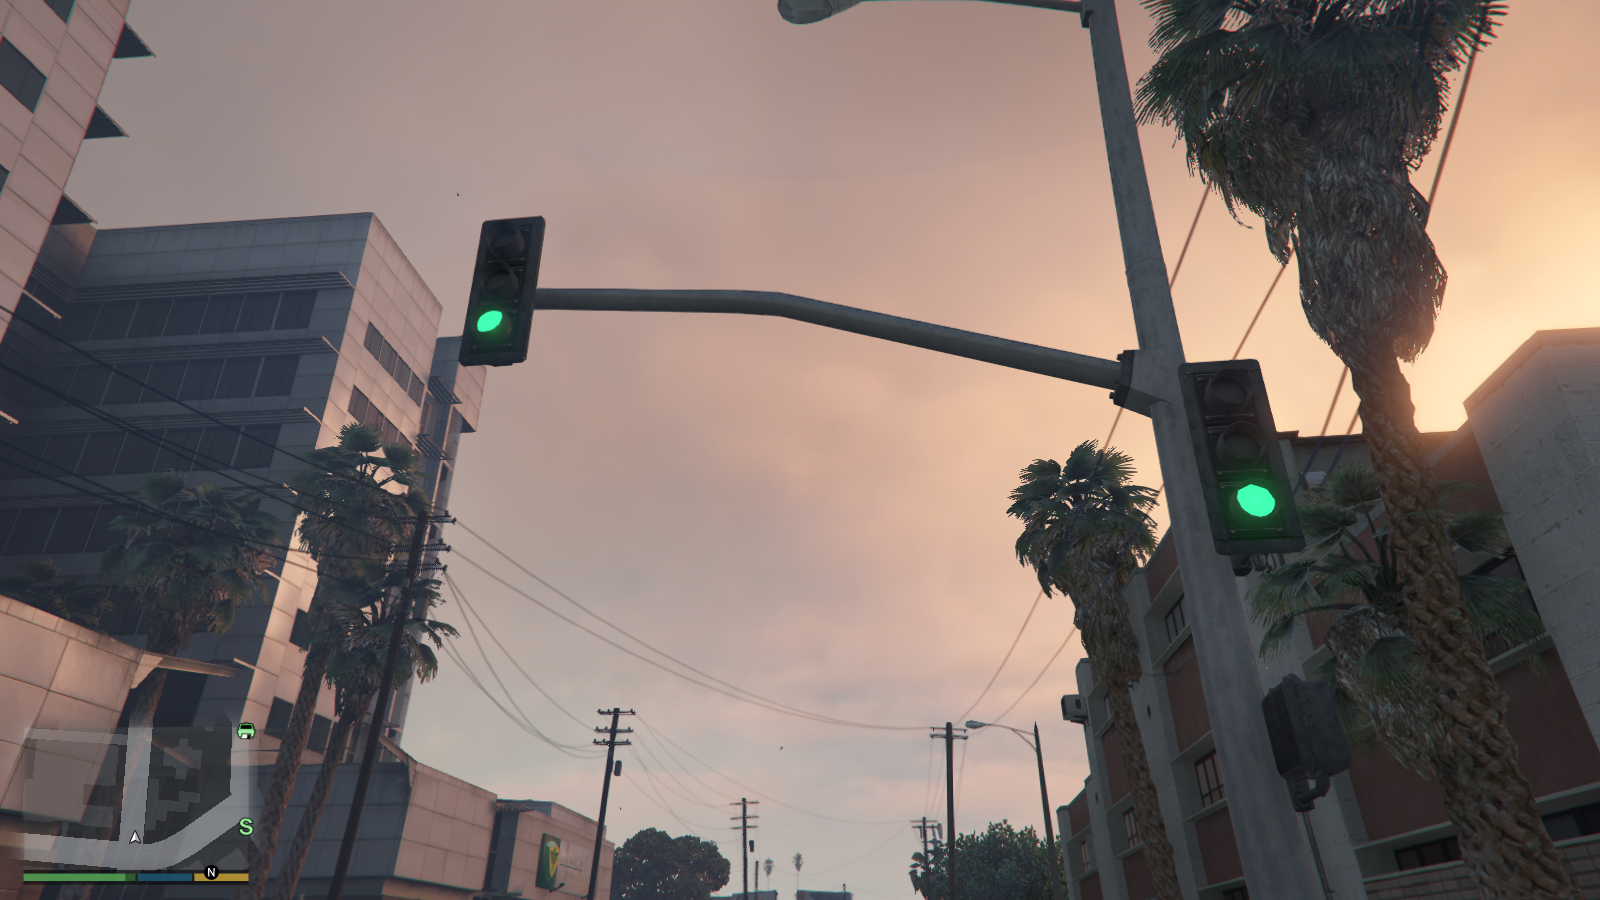green: (1173, 360, 1304, 557), (455, 216, 547, 366)
